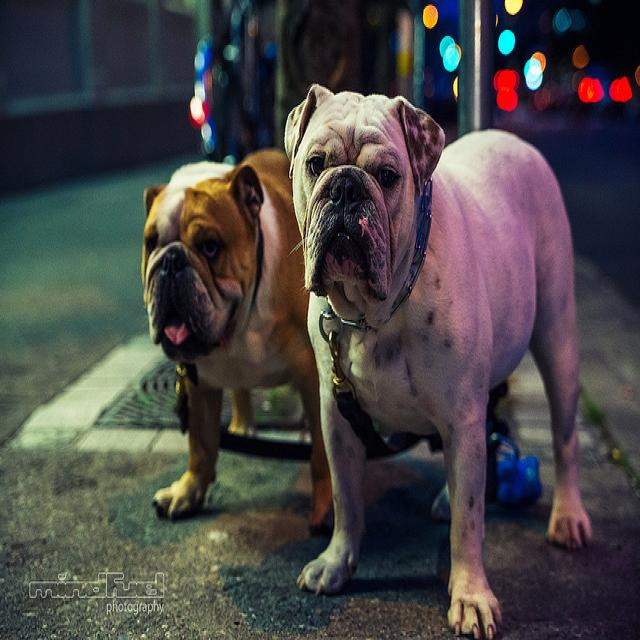dog: (290, 71, 594, 603), (93, 97, 346, 550)
